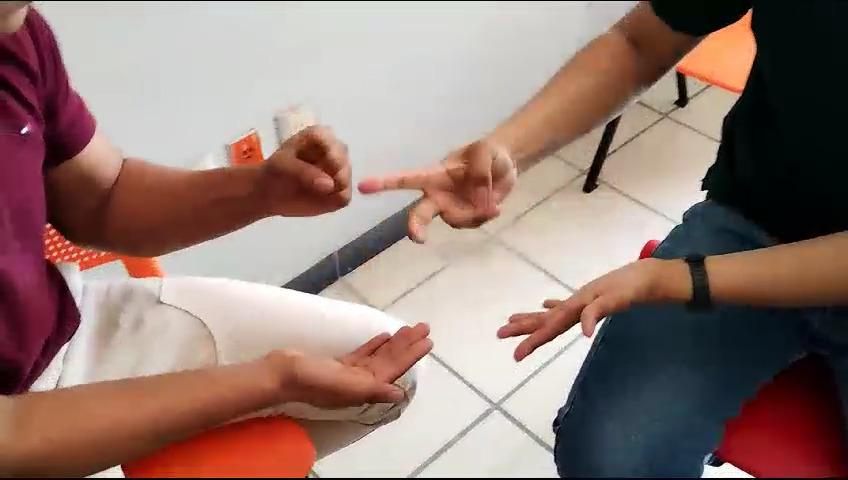Scissor: (355, 127, 539, 256)
Stone: (254, 113, 361, 237)
